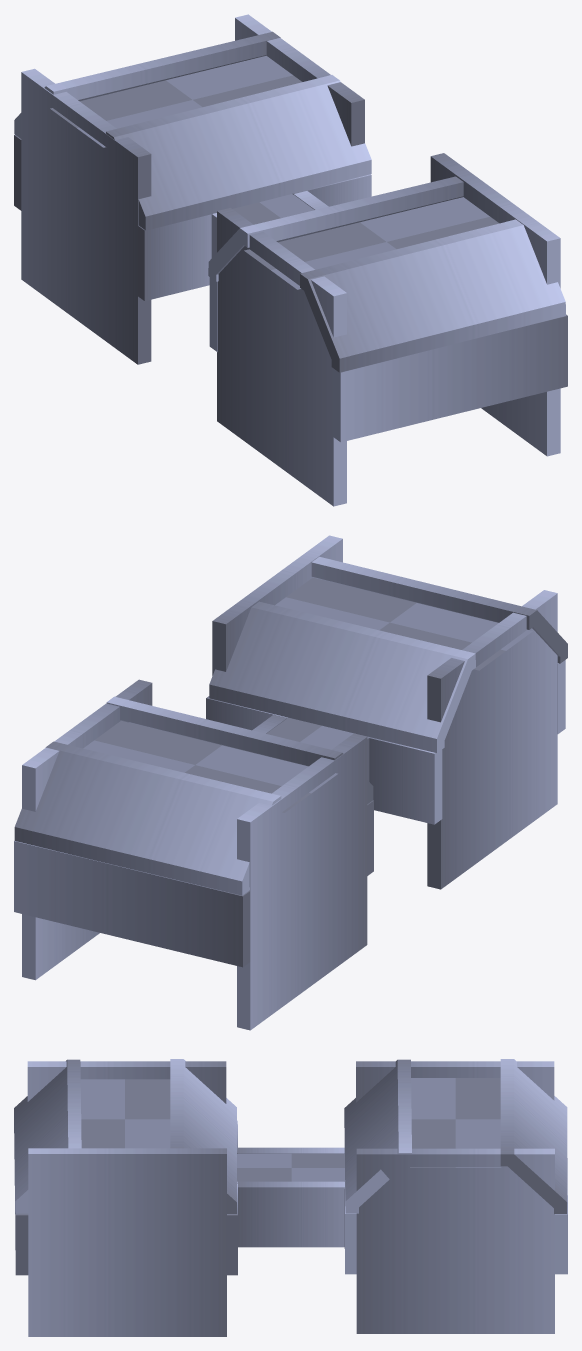
The model's file is defiance_envtest.glb.
3 renders of one model, top to bottom at view 1: azimuth 30°, elevation 25°; view 2: azimuth 150°, elevation 25°; view 3: azimuth 270°, elevation 25°, orthographic. The views are drawn at different scales.
Visible parts, largest first — view 1: wall.002, wall.010, wall-diagonal.003, wall-diagonal.002, wall.008, floor-square.003, floor-square.001, wall.009, wall-diagonal.004, wall.004, wall-diagonal.001, wall.001 (+3 smaller); view 2: wall.002, wall.010, wall-diagonal.004, wall-diagonal.001, wall.003, floor-square.003, floor-square.001, wall.001, wall-diagonal.003, wall.006, wall-diagonal.002, wall.009 (+3 smaller); view 3: wall.009, wall.001, wall.011, wall-diagonal.001, floor-square.001, floor-square.003, wall-diagonal.002, wall-diagonal.003, wall-diagonal.004, wall.010, wall.002, floor-square.002 (+5 smaller).
Boxes of the visible parts, left/top/right/bottom form: wall.002: left=21, top=68, right=151, bottom=364; wall.010: left=217, top=208, right=346, bottom=506; wall-diagonal.003: left=300, top=219, right=565, bottom=372; wall-diagonal.002: left=106, top=75, right=371, bottom=230; wall.008: left=333, top=314, right=567, bottom=442; floor-square.003: left=244, top=197, right=499, bottom=289; floor-square.001: left=50, top=55, right=302, bottom=147; wall.009: left=430, top=153, right=560, bottom=456; wall-diagonal.004: left=208, top=176, right=463, bottom=281; wall.004: left=138, top=214, right=211, bottom=300; wall-diagonal.001: left=14, top=31, right=280, bottom=138; wall.001: left=235, top=14, right=364, bottom=146; wall.002: left=237, top=733, right=367, bottom=1030; wall.010: left=427, top=590, right=557, bottom=889; wall-diagonal.004: left=209, top=601, right=475, bottom=752; wall-diagonal.001: left=14, top=741, right=281, bottom=895; wall.003: left=14, top=841, right=250, bottom=967; floor-square.003: left=275, top=577, right=532, bottom=670; floor-square.001: left=83, top=720, right=337, bottom=812; wall.001: left=22, top=679, right=152, bottom=980; wall-diagonal.003: left=311, top=556, right=567, bottom=663; wall.006: left=357, top=734, right=442, bottom=824; wall-diagonal.002: left=106, top=696, right=373, bottom=804; wall.009: left=212, top=535, right=342, bottom=675; wall.009: left=28, top=1148, right=226, bottom=1336; wall.001: left=356, top=1148, right=554, bottom=1333; wall.011: left=238, top=1181, right=344, bottom=1247; wall-diagonal.001: left=500, top=1059, right=567, bottom=1214; floor-square.001: left=410, top=1078, right=501, bottom=1167; floor-square.003: left=80, top=1079, right=170, bottom=1148; wall-diagonal.002: left=344, top=1059, right=411, bottom=1213; wall-diagonal.003: left=14, top=1059, right=81, bottom=1213; wall-diagonal.004: left=170, top=1059, right=236, bottom=1213; wall.010: left=27, top=1061, right=226, bottom=1103; wall.002: left=356, top=1061, right=554, bottom=1102; floor-square.002: left=237, top=1153, right=345, bottom=1182.
Size of the model in its own units: 3.45 by 3.04 by 8.33.
33 materials, 31 textured.
